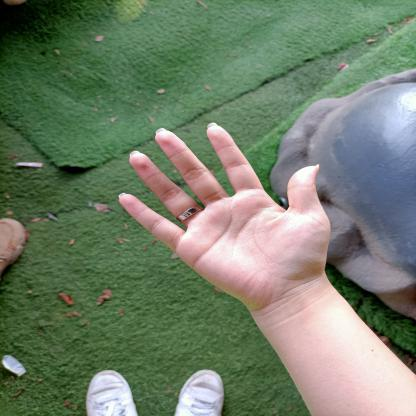bare_hand: (107, 113, 344, 310)
